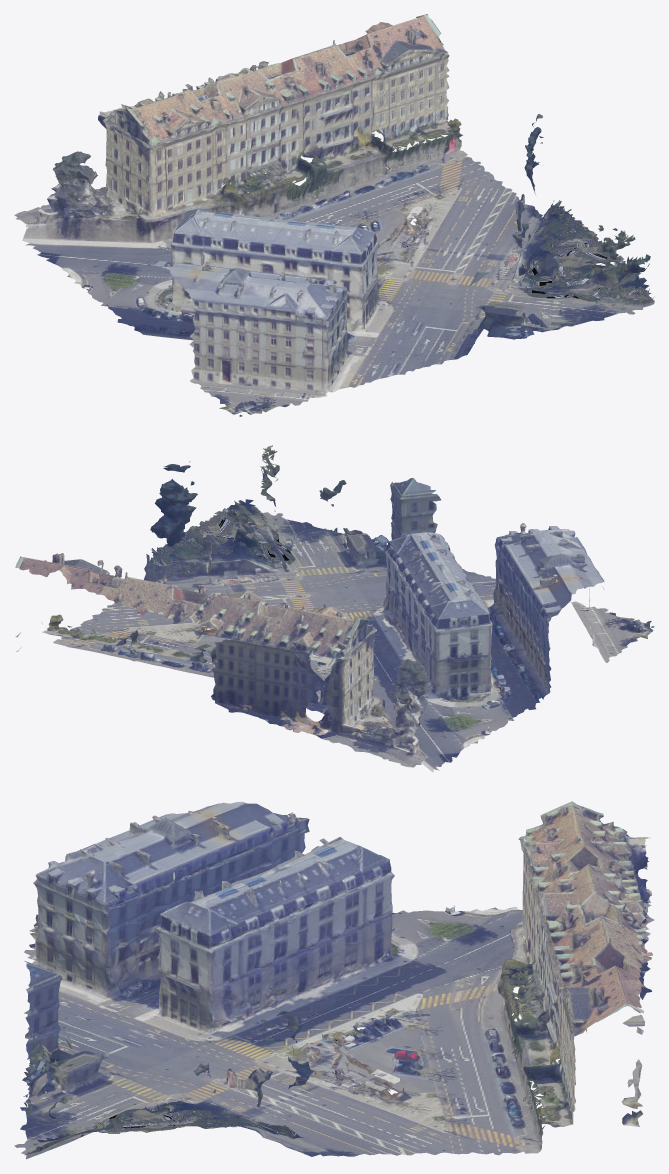
3 renders of one model, top to bottom at view 1: azimuth 30°, elevation 25°; view 2: azimuth 150°, elevation 25°; view 3: azimuth 270°, elevation 25°, orthographic. The views are drawn at different scales.
Bounding box in the file's own units: 105 × 33.17 × 105.
1 material, 1 textured.
